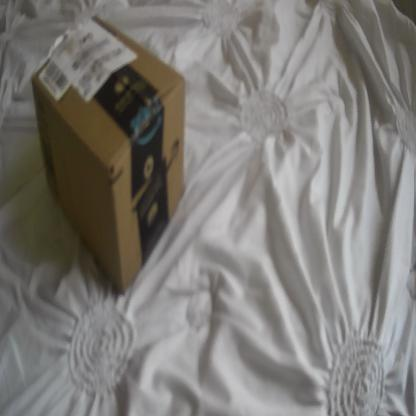package: (30, 13, 185, 300)
